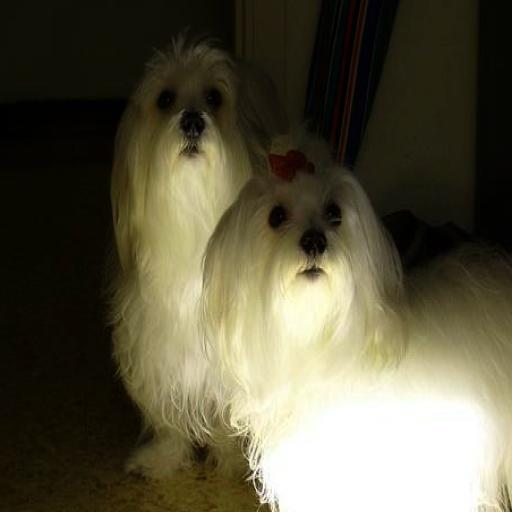dog_face: (227, 142, 401, 343), (112, 45, 258, 197)
